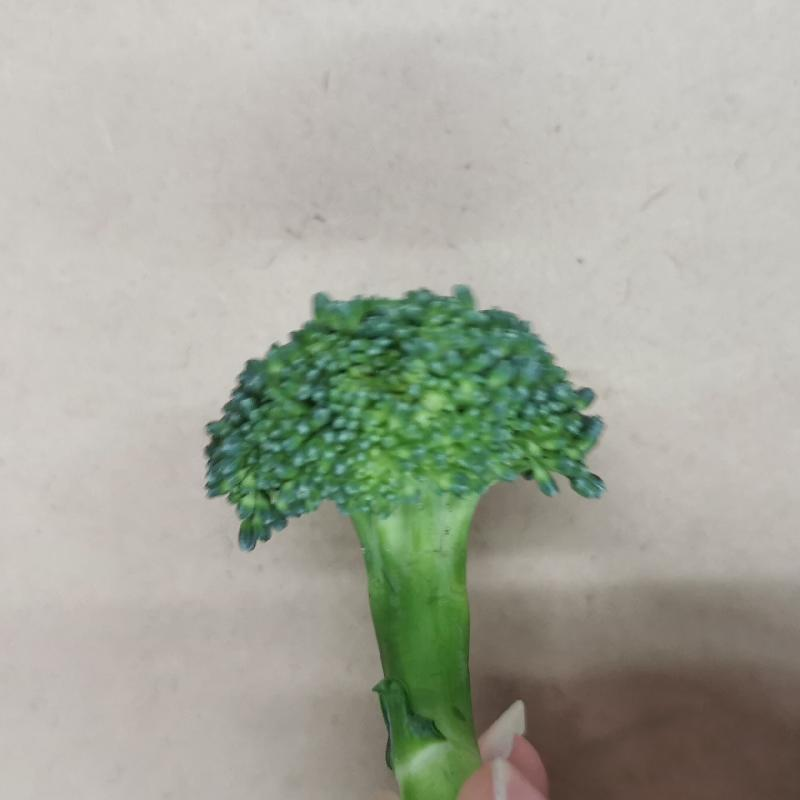broccoli: (190, 287, 609, 800)
